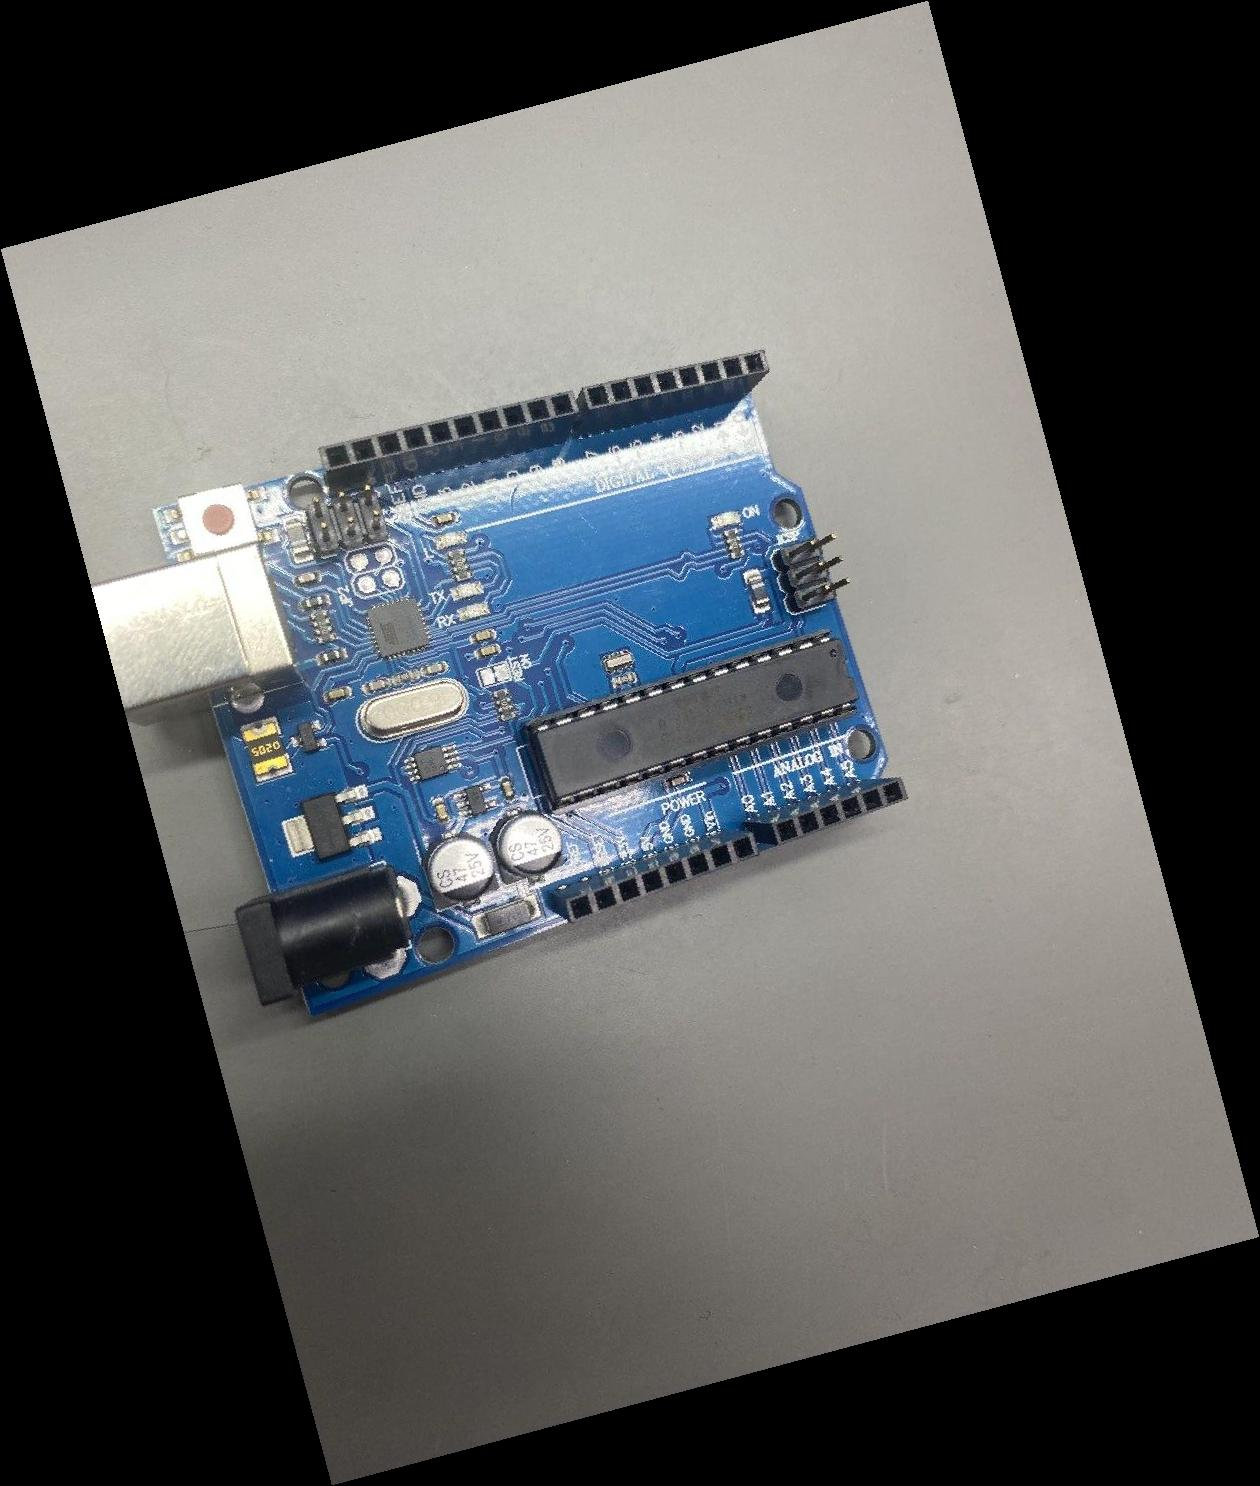ATmega328 chip: (519, 629, 860, 815)
Arduino board: (91, 349, 909, 1017)
USB: (92, 542, 302, 726)
capacitor: (427, 836, 494, 902), (496, 814, 562, 876)
pins: (319, 390, 579, 497), (545, 830, 760, 924), (571, 349, 770, 440), (742, 777, 909, 846)
resistor: (309, 609, 336, 645), (491, 687, 519, 722), (446, 547, 472, 584), (724, 527, 746, 559)
